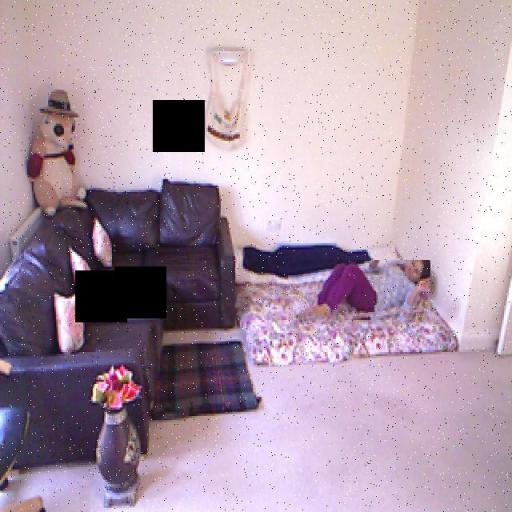Fall: (298, 261, 431, 325)
